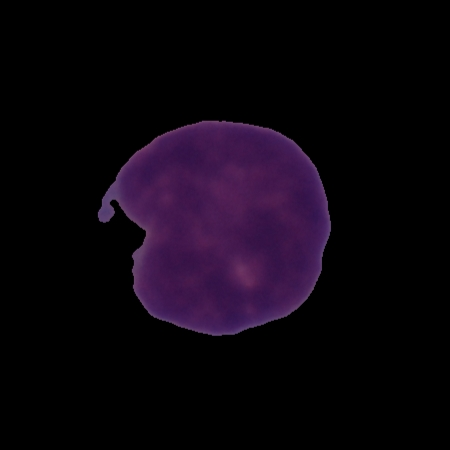ALL: (95, 117, 336, 340)
